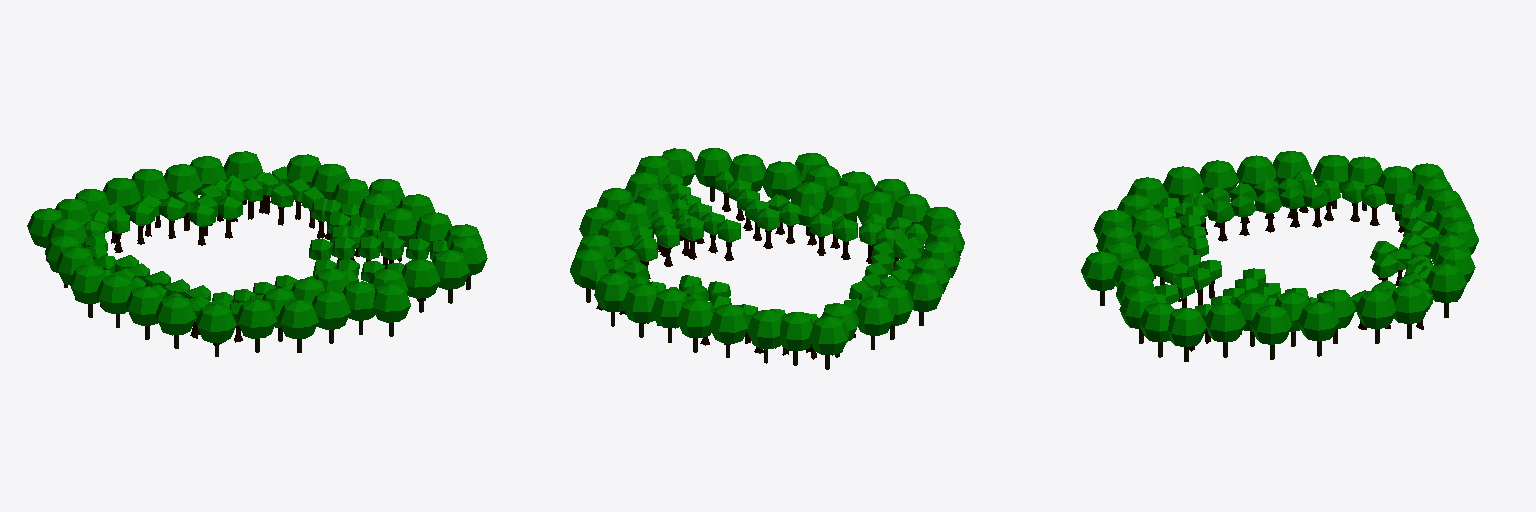
File: trees.obj
The picture shows the model from 3 angles: view 1: azimuth 30°, elevation 25°; view 2: azimuth 150°, elevation 25°; view 3: azimuth 270°, elevation 25°; orthographic projection.
Visible parts, largest first — view 1: big_tree; view 2: big_tree; view 3: big_tree.
Part boxes in pixels (left/top/right/bottom): big_tree: left=27, top=151, right=487, bottom=342; big_tree: left=570, top=148, right=964, bottom=355; big_tree: left=1081, top=151, right=1478, bottom=346.
Bounding box in the file's own units: 1346 × 189 × 1297.